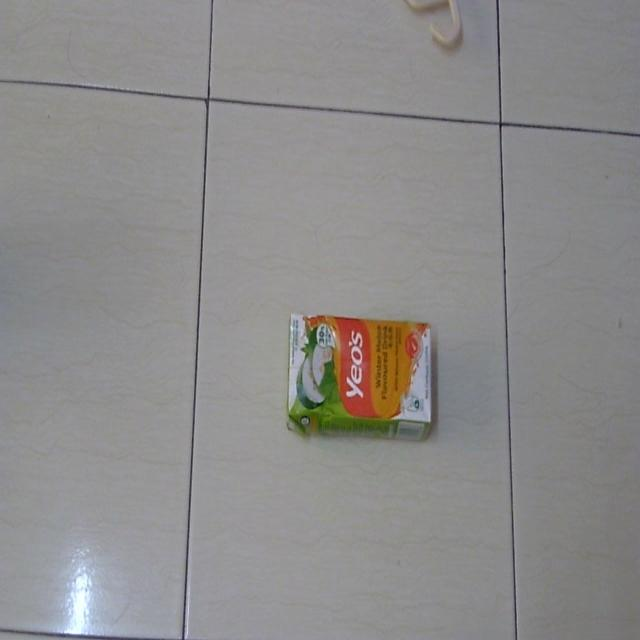plastic_laydown_0rotation: (285, 310, 437, 445)
